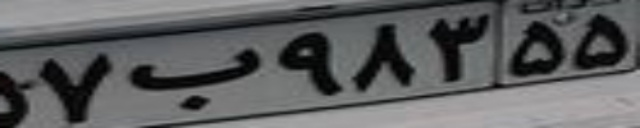3: (425, 12, 491, 83)
5: (571, 12, 630, 69), (507, 19, 563, 77), (0, 59, 31, 127)
7: (36, 51, 112, 123)
8: (349, 23, 415, 91)
9: (276, 31, 341, 96)
be: (126, 47, 260, 111)
